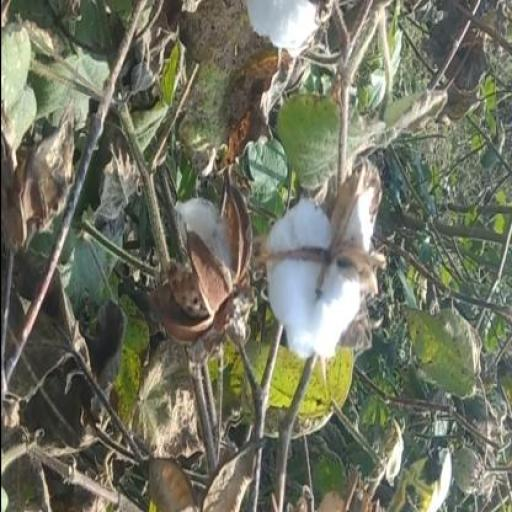cotton_ready: (236, 164, 390, 386)
